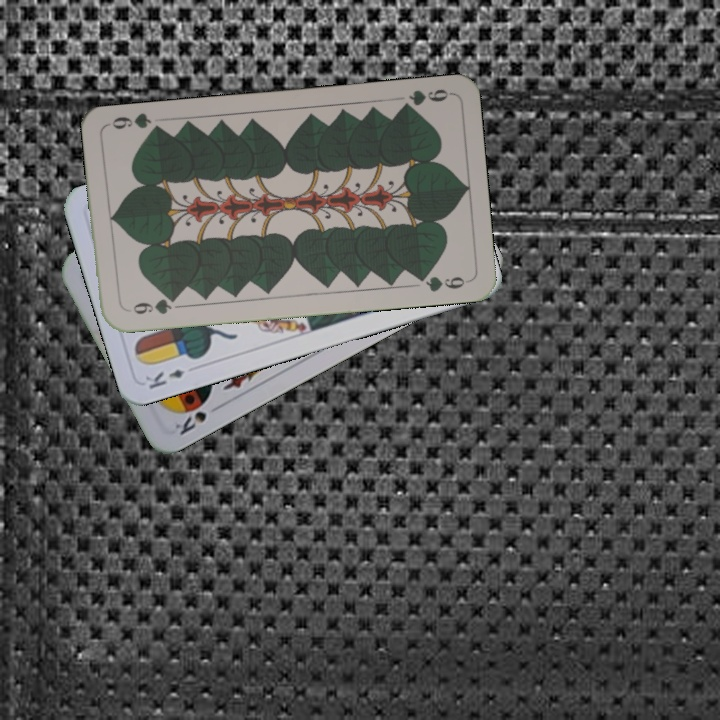EK: (141, 365, 188, 392)
G9: (395, 84, 453, 113), (122, 293, 180, 317)
SK: (170, 395, 212, 438)
